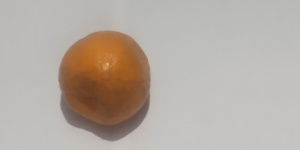BAD: (54, 30, 152, 124)
